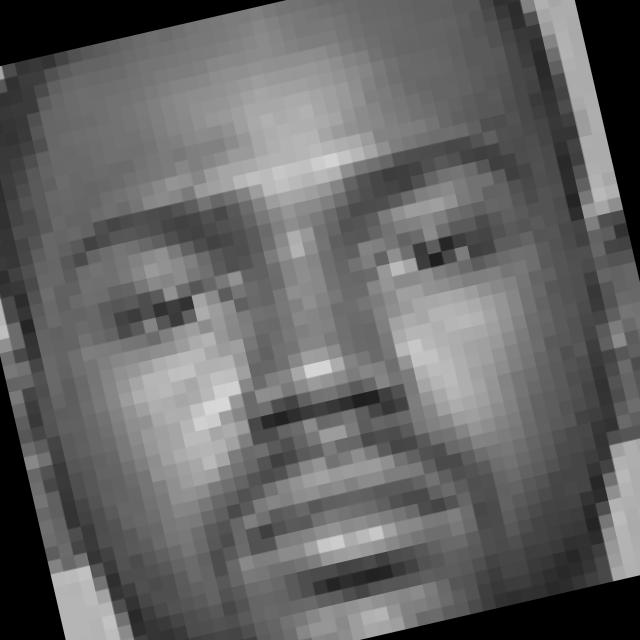neutral: (44, 100, 621, 640)
